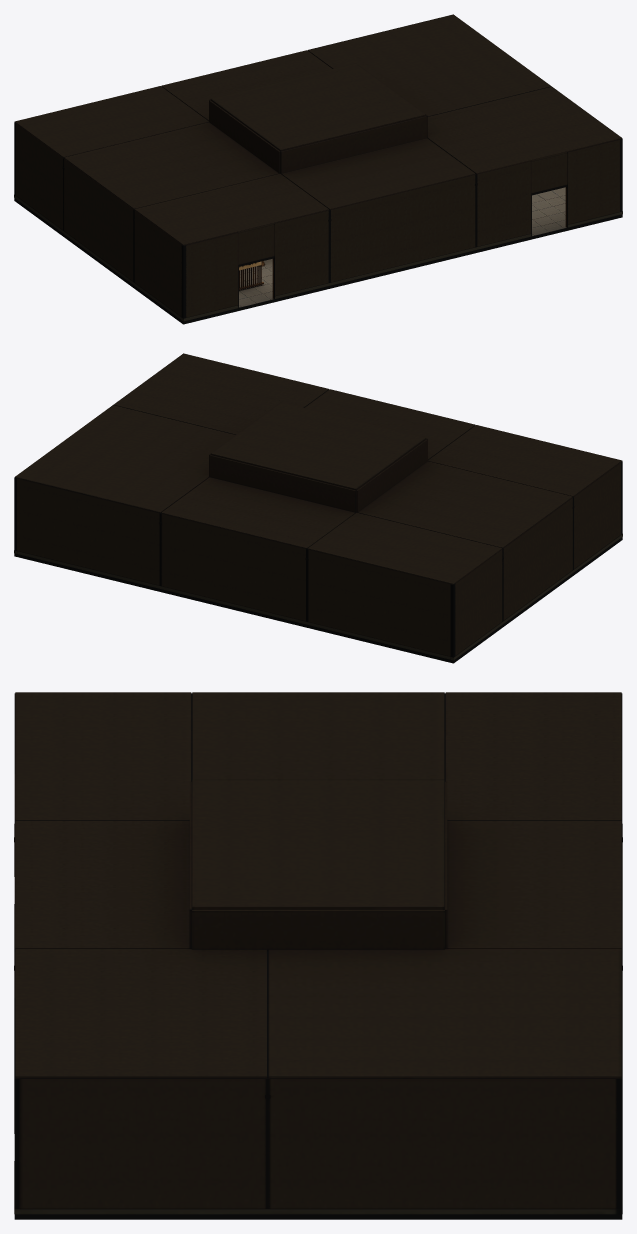
Rendered from Baoguosi_Gallery_V04_Baked.fbx.
The picture shows the model from 3 angles, top to bottom: view 1: azimuth 30°, elevation 25°; view 2: azimuth 150°, elevation 25°; view 3: azimuth 270°, elevation 25°; orthographic projection. The views are drawn at different scales.
Visible parts, largest first — view 1: BGV04_Architecture_Zone08, BGV04_Architecture_Zone02, BGV04_Architecture_Zone07, BGV04_Architecture_Zone05, BGV04_Architecture_Zone01, BGV04_Architecture_Zone06, BGV04_Architecture_Zone03, BGV04_Architecture_Zone04; view 2: BGV04_Architecture_Zone04, BGV04_Architecture_Zone02, BGV04_Architecture_Zone06, BGV04_Architecture_Zone05, BGV04_Architecture_Zone07, BGV04_Architecture_Zone03, BGV04_Architecture_Zone01, BGV04_Architecture_Zone08; view 3: BGV04_Architecture_Zone06, BGV04_Architecture_Zone05, BGV04_Architecture_Zone07, BGV04_Architecture_Zone04, BGV04_Architecture_Zone08, BGV04_Architecture_Zone01, BGV04_Architecture_Zone03, BGV04_Architecture_Zone02.
Part boxes in pixels (<box>): BGV04_Architecture_Zone08: <box>274,138,531,298</box>; BGV04_Architecture_Zone02: <box>14,100,280,320</box>; BGV04_Architecture_Zone07: <box>427,86,622,250</box>; BGV04_Architecture_Zone05: <box>14,63,622,324</box>; BGV04_Architecture_Zone01: <box>133,173,331,321</box>; BGV04_Architecture_Zone06: <box>307,14,622,211</box>; BGV04_Architecture_Zone03: <box>14,86,208,234</box>; BGV04_Architecture_Zone04: <box>14,50,332,195</box>; BGV04_Architecture_Zone04: <box>17,455,455,659</box>; BGV04_Architecture_Zone02: <box>356,439,622,660</box>; BGV04_Architecture_Zone06: <box>14,405,235,589</box>; BGV04_Architecture_Zone05: <box>14,402,622,663</box>; BGV04_Architecture_Zone07: <box>113,353,329,434</box>; BGV04_Architecture_Zone03: <box>305,512,503,660</box>; BGV04_Architecture_Zone01: <box>428,425,622,573</box>; BGV04_Architecture_Zone08: <box>304,389,475,459</box>; BGV04_Architecture_Zone06: <box>14,949,622,1215</box>; BGV04_Architecture_Zone05: <box>14,779,622,1219</box>; BGV04_Architecture_Zone07: <box>14,949,267,1215</box>; BGV04_Architecture_Zone04: <box>443,694,622,1211</box>; BGV04_Architecture_Zone08: <box>14,774,189,1133</box>; BGV04_Architecture_Zone01: <box>14,692,192,876</box>; BGV04_Architecture_Zone03: <box>445,692,622,842</box>; BGV04_Architecture_Zone02: <box>191,692,622,825</box>.
Size of the model in its own units: 36.05 by 8.02 by 24.05.
27 materials, 27 textured.
